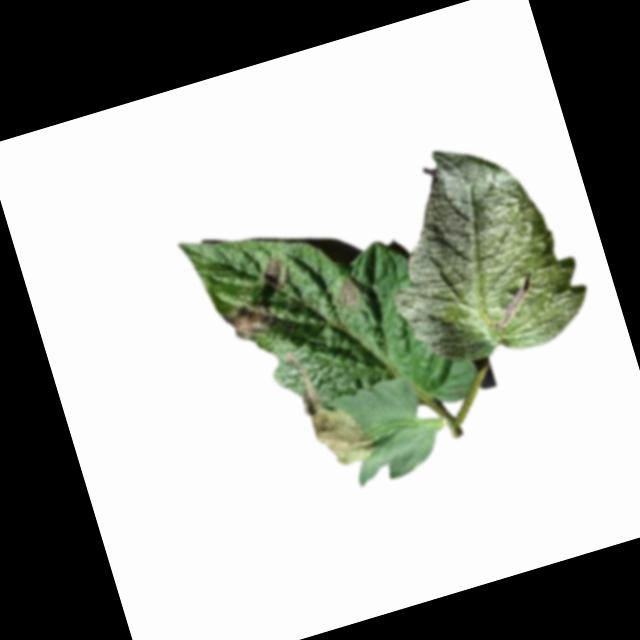Late_blight: (309, 397, 379, 472), (284, 346, 326, 417), (224, 297, 278, 343), (258, 253, 288, 288), (331, 275, 361, 310)
healthy: (356, 121, 596, 382)
